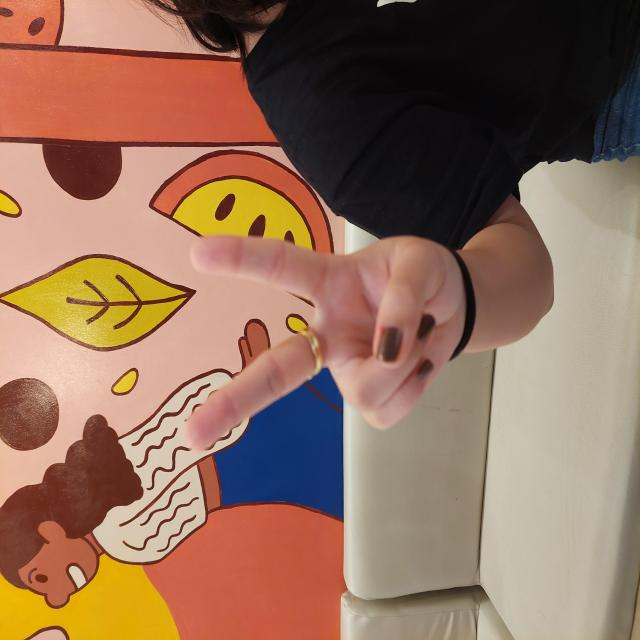V: (184, 180, 408, 466)
